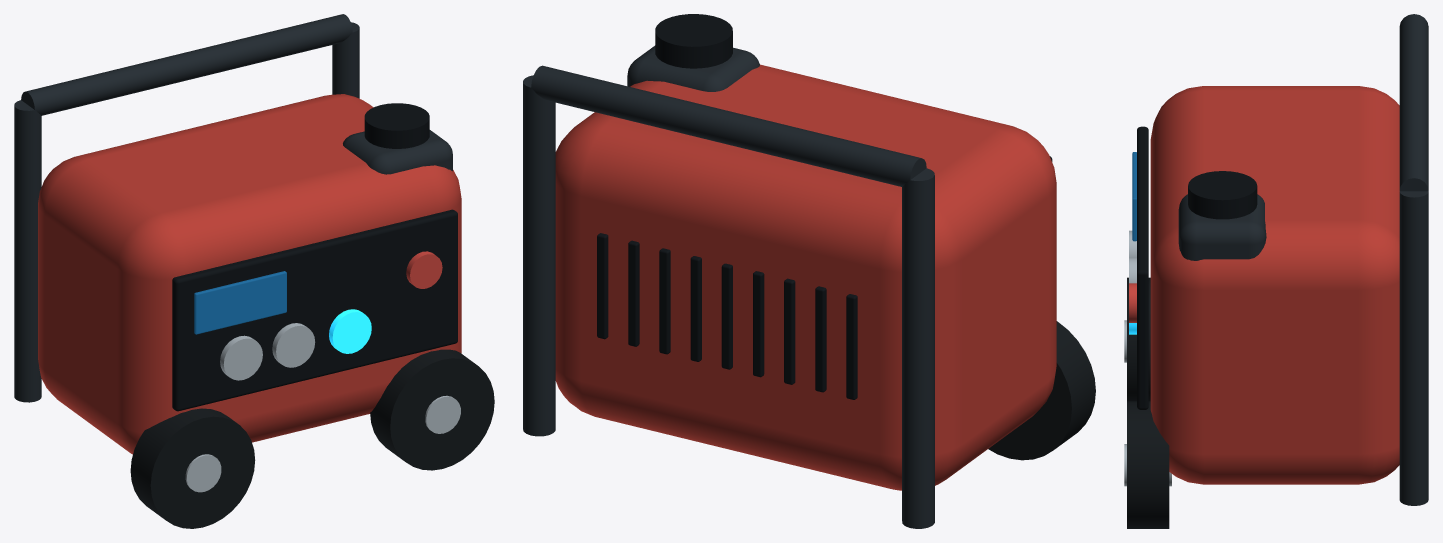
Rendered from portable-generator.glb.
3 renders of one model, left to right at view 1: azimuth 30°, elevation 25°; view 2: azimuth 150°, elevation 25°; view 3: azimuth 270°, elevation 25°, orthographic. The views are drawn at different scales.
Parts seen in each view (by area): view 1: Generator enclosure, Generator control panel, Premium portable inverter generator, Wheel (×2), Power outlet (×3), Power display, Fuel cap surround, Fuel cap, Engine stop; view 2: Generator enclosure, Premium portable inverter generator, Engine cooling vent (×9), Wheel, Fuel cap, Fuel cap surround; view 3: Generator enclosure, Premium portable inverter generator, Wheel (×2), Fuel cap surround, Generator control panel, Fuel cap, Power display.
Part boxes in pixels (box(x1,y1,x2,y2)): Generator enclosure: box(38, 94, 461, 454); Generator control panel: box(172, 209, 457, 411); Premium portable inverter generator: box(14, 14, 460, 492); Wheel (×2): box(130, 349, 494, 528); Power outlet (×3): box(220, 309, 371, 380); Power display: box(194, 271, 286, 334); Fuel cap surround: box(343, 130, 452, 174); Fuel cap: box(364, 103, 429, 148); Engine stop: box(406, 251, 442, 288); Generator enclosure: box(555, 64, 1056, 490); Premium portable inverter generator: box(523, 65, 934, 528); Engine cooling vent (×9): box(597, 233, 857, 399); Wheel: box(988, 321, 1095, 460); Fuel cap: box(655, 14, 732, 68); Fuel cap surround: box(627, 45, 759, 91); Generator enclosure: box(1150, 86, 1399, 484); Premium portable inverter generator: box(1124, 14, 1428, 505); Wheel (×2): box(1127, 277, 1169, 528); Fuel cap surround: box(1178, 194, 1266, 260); Generator control panel: box(1137, 126, 1148, 409); Fuel cap: box(1188, 171, 1257, 219); Power display: box(1132, 152, 1136, 241).
Bounding box in the file's own units: 1.58 × 1.51 × 1.15.
